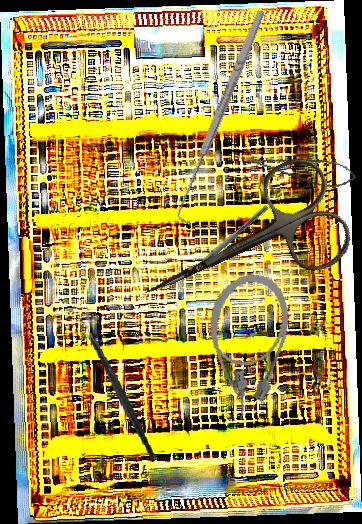Cannula: (190, 267, 299, 426)
Chopper: (72, 310, 158, 469), (177, 199, 269, 284)
Hook Surgical: (169, 6, 276, 228)
Iris Scissors: (119, 149, 361, 343)
Micro Scissor: (244, 137, 359, 196)
